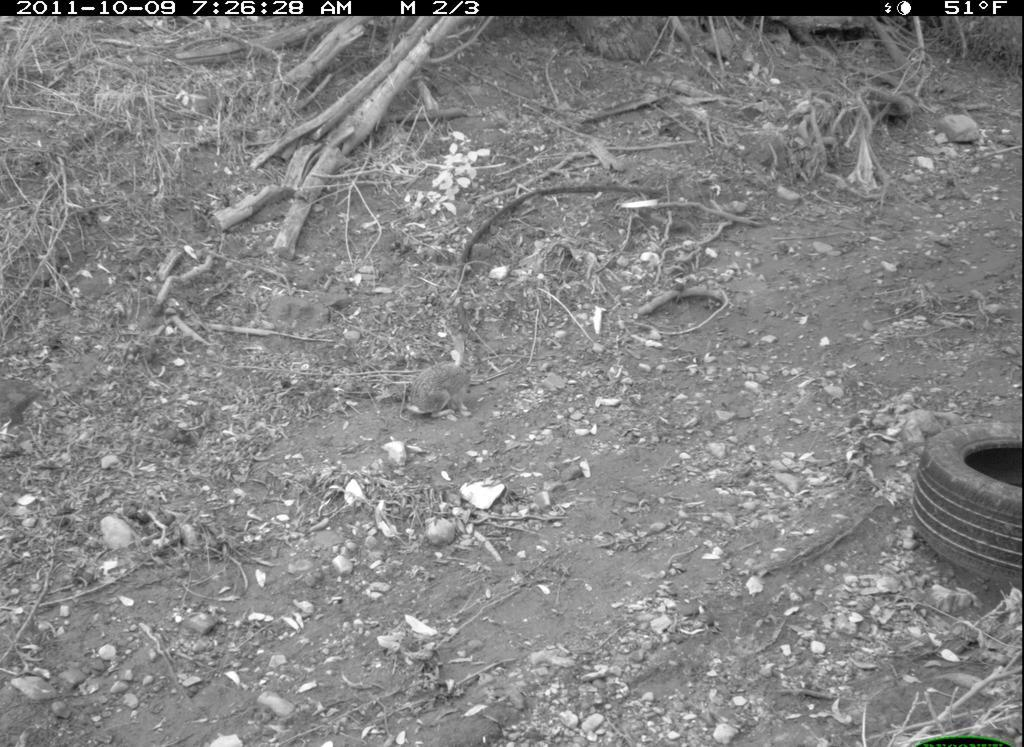rabbit: (390, 323, 487, 438)
